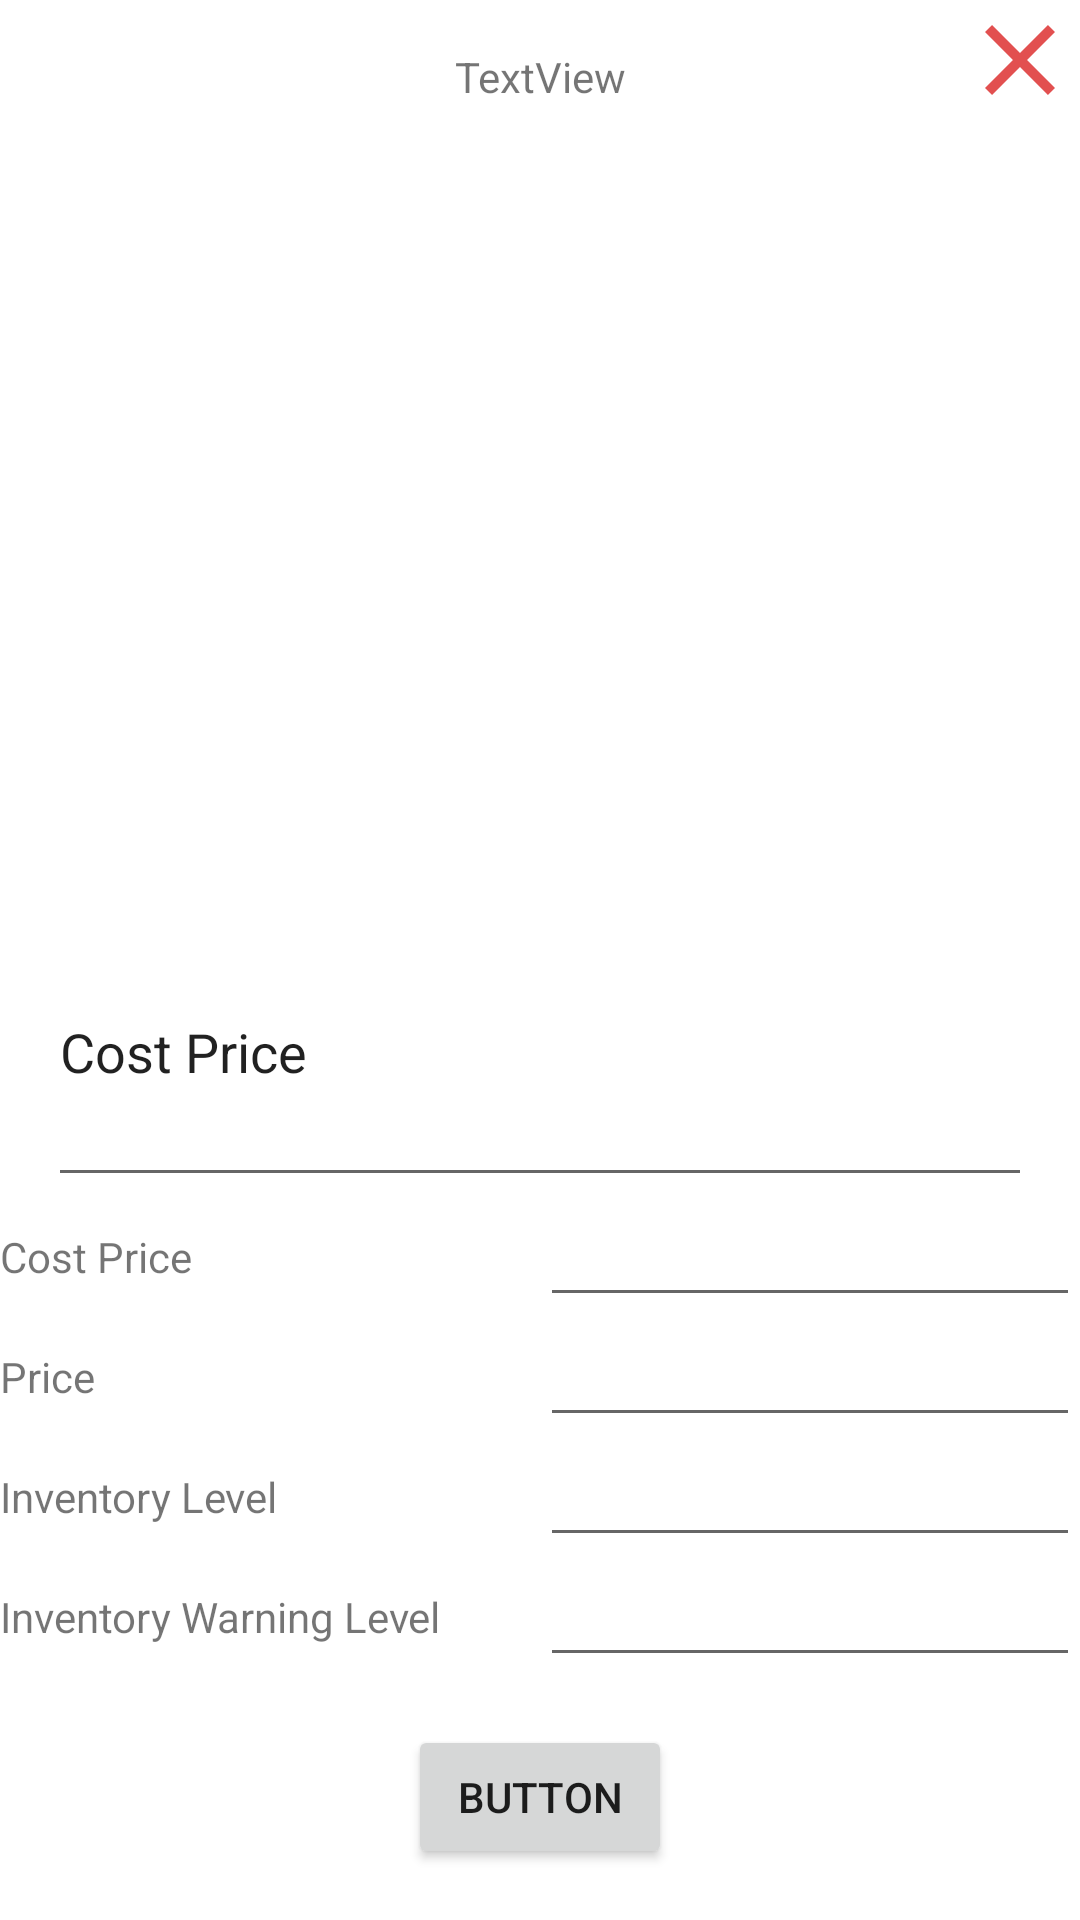

Screen size 1080 × 1920. Icon name, then its center in pixels as [x,y]:
close: [1020,60]
